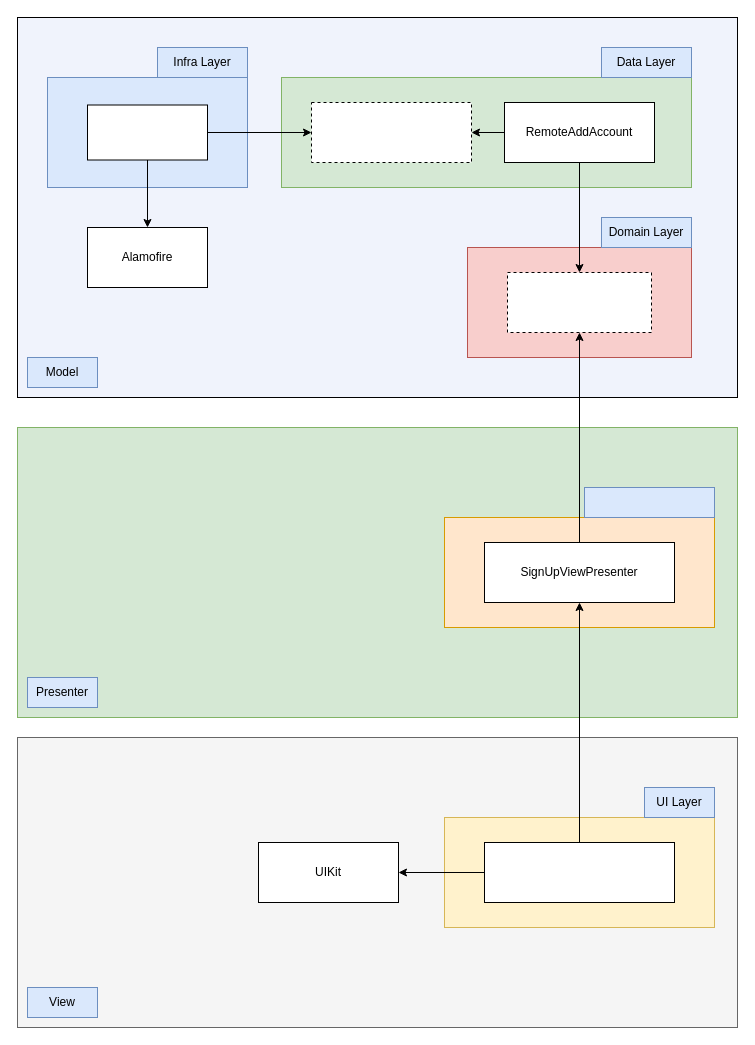
This 755x1045 diagram has some shape labels left out. Each missing label, with the centre of its shape:
"AddAccount" belongs at point 579,302.
"AlamofireAdapter" belongs at point 147,132.
"HttpPostClient" belongs at point 391,132.
"Presentation Layer" belongs at point 649,502.
"SignUpViewController" belongs at point 579,872.
